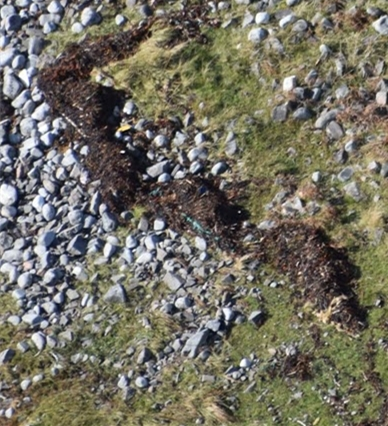scattered_barrel: (150, 178, 217, 237)
white_in_green: (102, 105, 151, 151)
